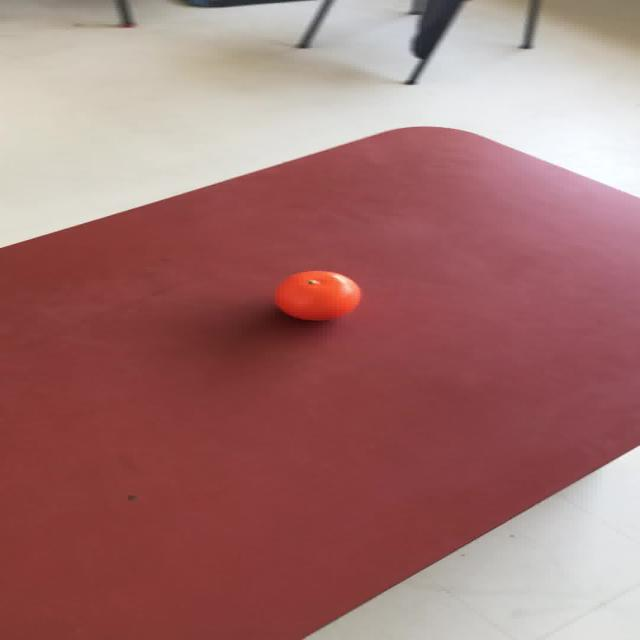orange: (273, 270, 361, 321)
